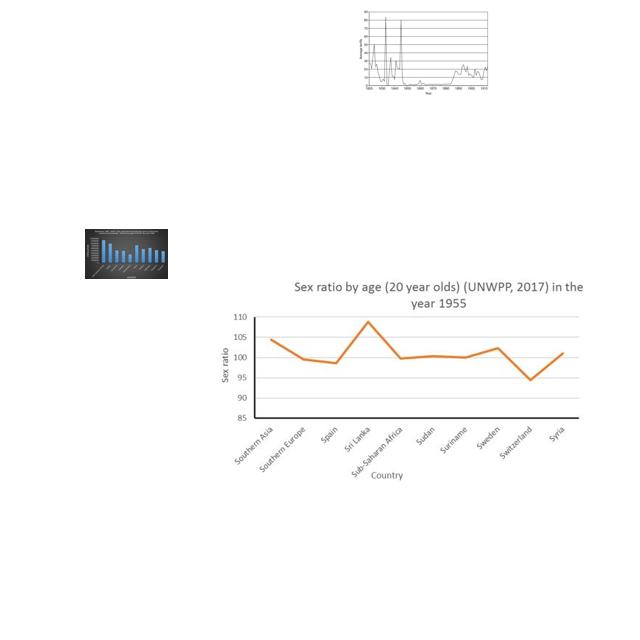Graph: (219, 279, 588, 483), (358, 8, 490, 97), (85, 229, 168, 279)
